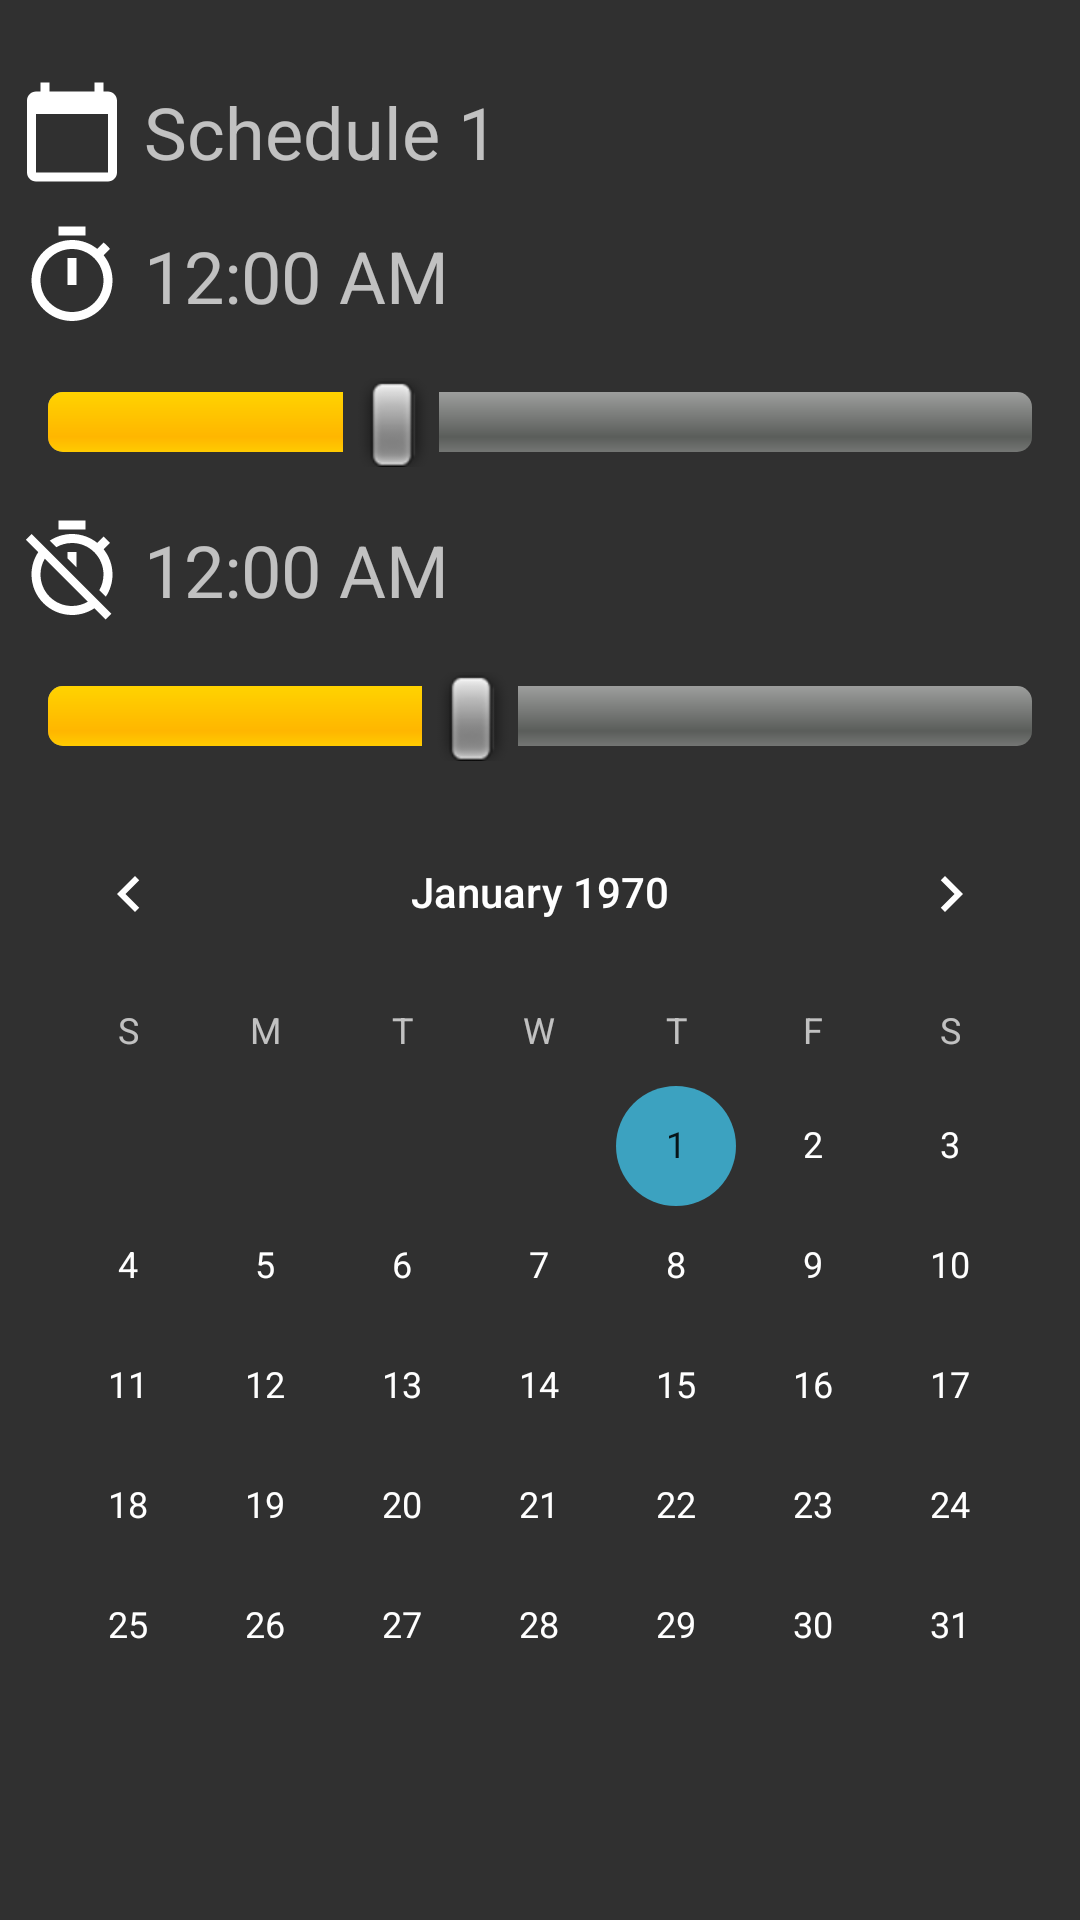

Where to tap for icons on this 1080 × 1920 app screen, as point (x, y):
calendar today: point (72, 132)
timer: point (72, 273)
timer off: point (69, 570)
